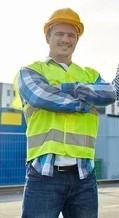hat: (43, 9, 85, 31)
low quality vest: (21, 60, 103, 165)
no protective face gear: (49, 26, 78, 59)
